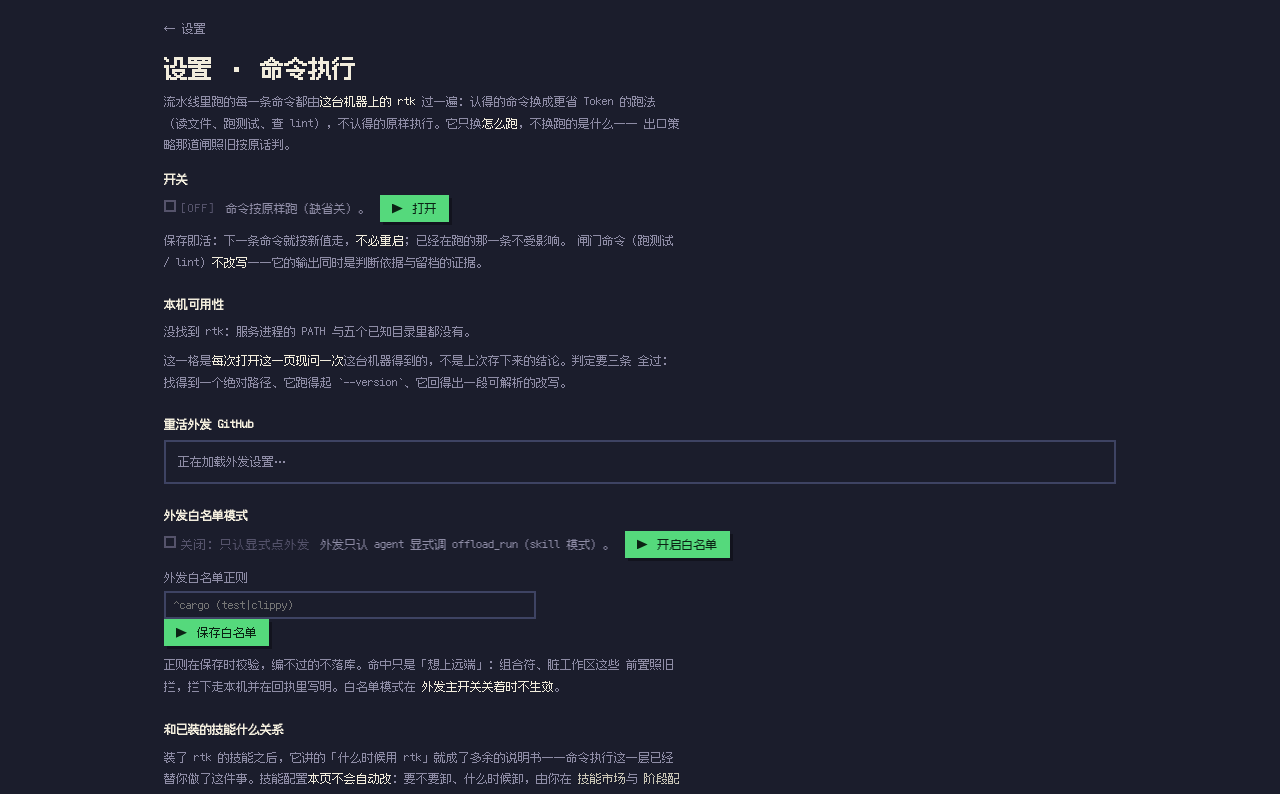
Test case: 命令执行页（决策 297 / 票 05） › 保存请求本身失败：错误原样播报，并重读读数
Expected: the heading "设置 · 命令执行" is shown, [164,54,356,83]
Click the button "打开".
click(414, 209)  # box [380,195,449,222]
(page scrolled)
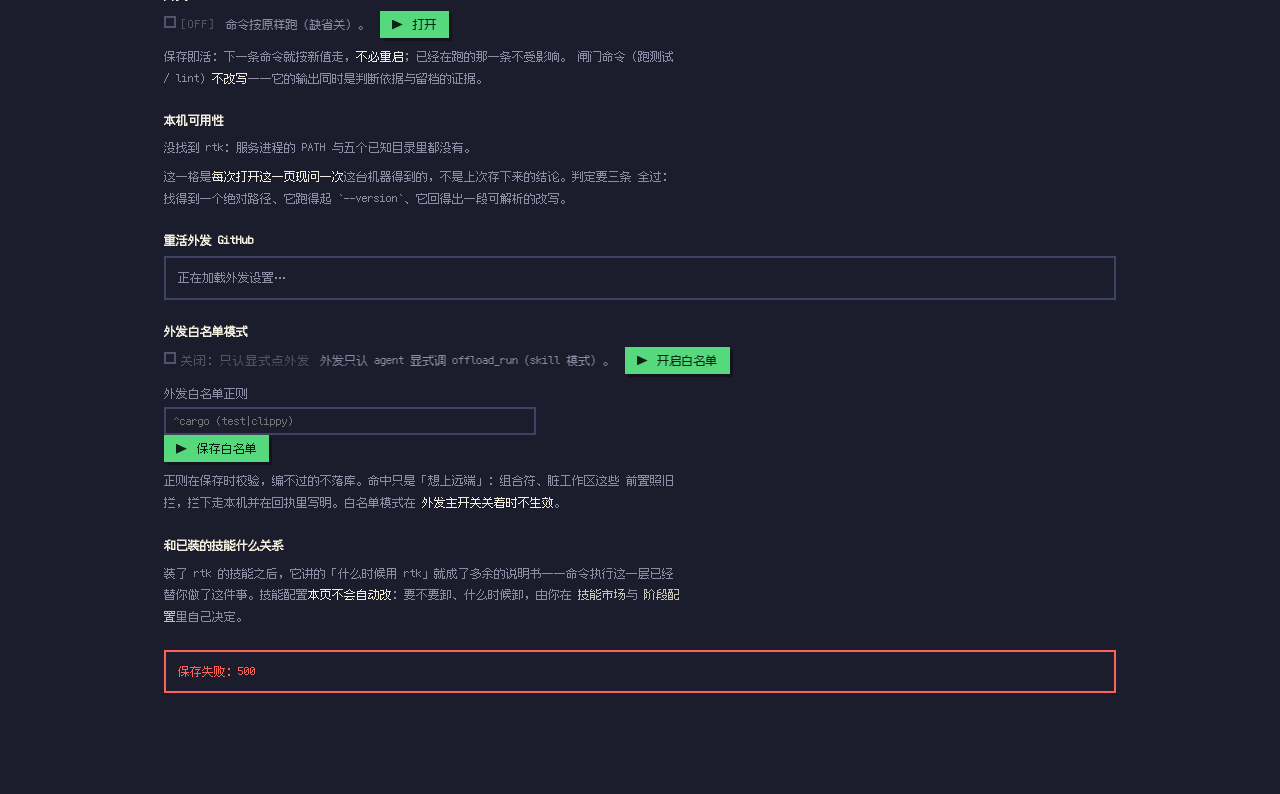
Expected: the message reads "保存失败：500", [178,665,256,677]
